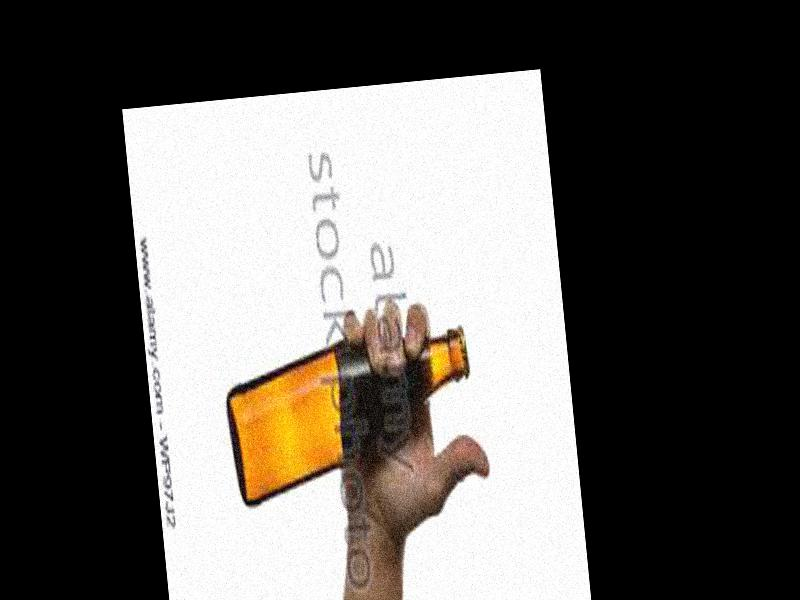Beer: (222, 322, 477, 510)
